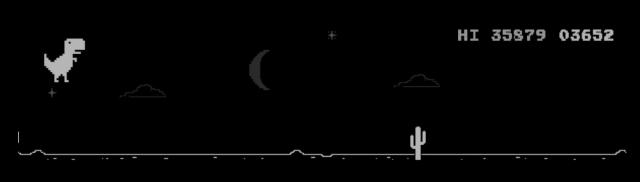cactus: (411, 127, 425, 160)
cloud: (395, 74, 439, 87), (121, 85, 165, 97)
dinosaur: (44, 39, 85, 82)
moon: (250, 51, 269, 90)
star: (49, 89, 56, 97), (329, 32, 336, 39)
